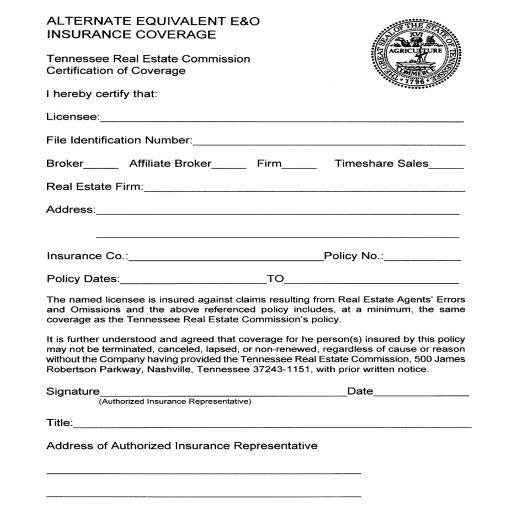Address: (43, 434, 327, 458), (42, 201, 98, 218)
Signature: (42, 381, 100, 398)
date: (44, 269, 119, 285), (345, 380, 376, 399)
free_text: (45, 130, 194, 148), (333, 156, 429, 173), (42, 180, 144, 195), (44, 248, 126, 265), (128, 156, 213, 170), (324, 245, 384, 263), (43, 109, 99, 126), (42, 412, 74, 432), (45, 155, 84, 171), (252, 156, 284, 172)
